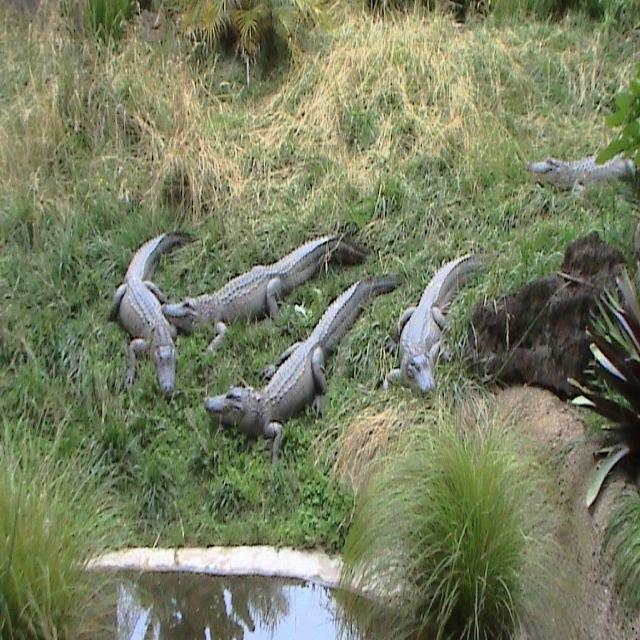crocodile: (210, 264, 402, 430), (173, 230, 368, 323), (389, 245, 489, 393), (110, 239, 181, 385), (529, 155, 619, 197)
